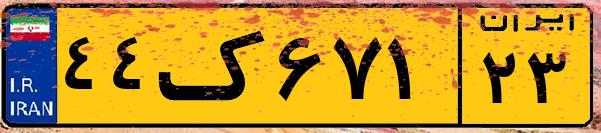1: (385, 28, 445, 110)
2: (475, 38, 525, 113)
3: (525, 38, 570, 115)
4: (57, 26, 110, 100), (110, 28, 158, 98)
6: (270, 28, 330, 110)
7: (330, 28, 385, 110)
ک: (158, 12, 270, 120)
